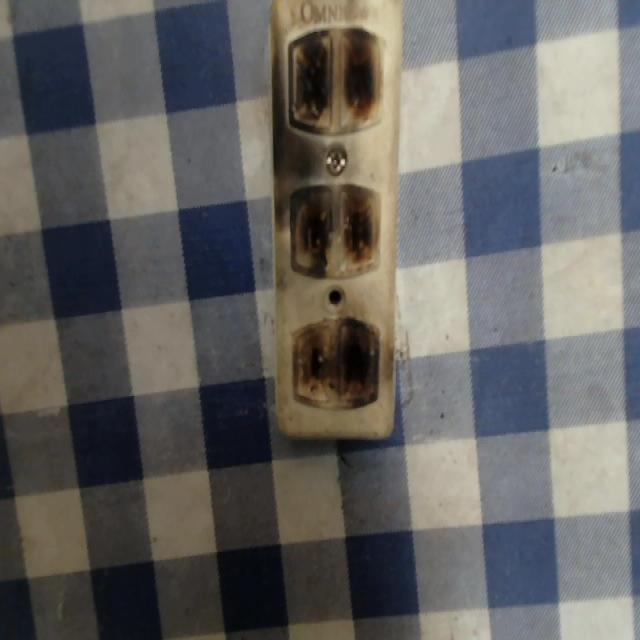-: (288, 24, 385, 133), (284, 180, 381, 284), (289, 310, 378, 406)
